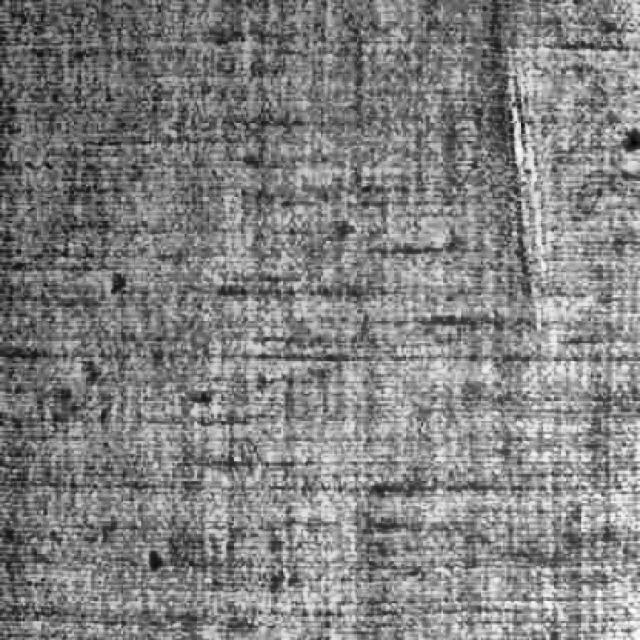thread_error: (484, 3, 564, 363)
